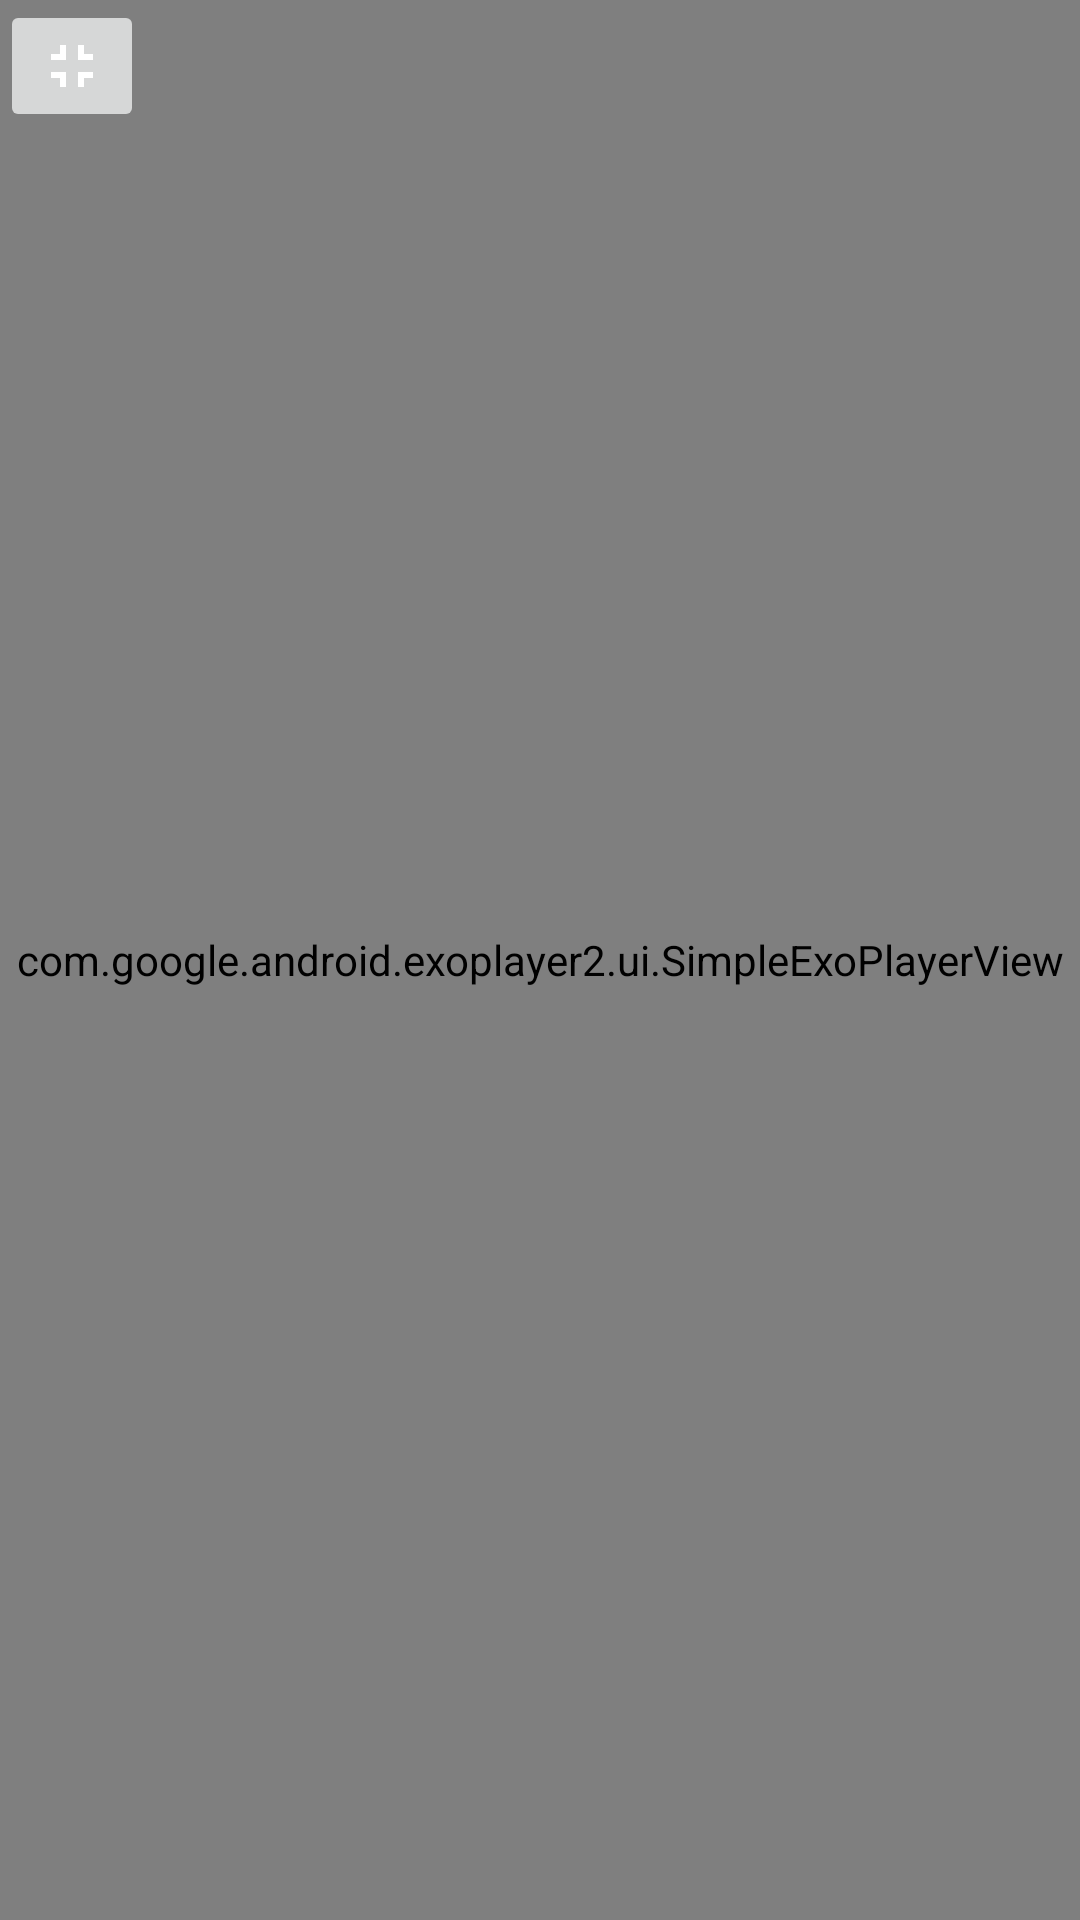

Locate icon controls on the screen. Image size 1080px×1920px, boxes as [x1, y1, x2, y2].
fullscreen exit: [12, 18, 132, 114]
